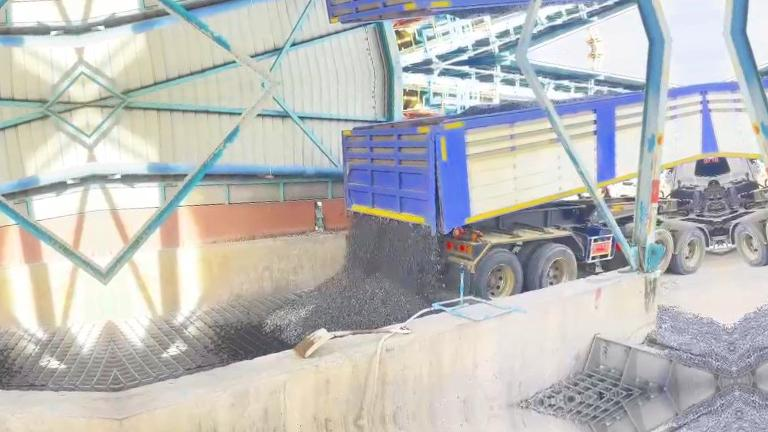gravel: (263, 213, 441, 343), (655, 306, 734, 376), (454, 100, 538, 117)
